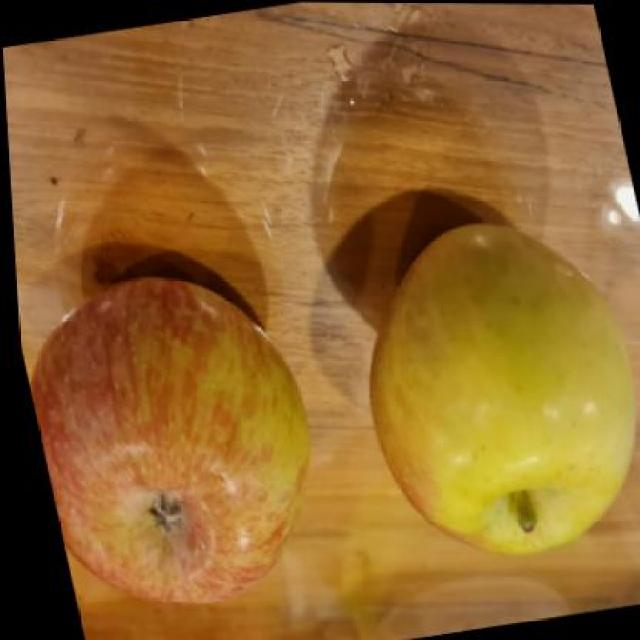Fresh Apple: (26, 273, 306, 607), (363, 226, 640, 562)
